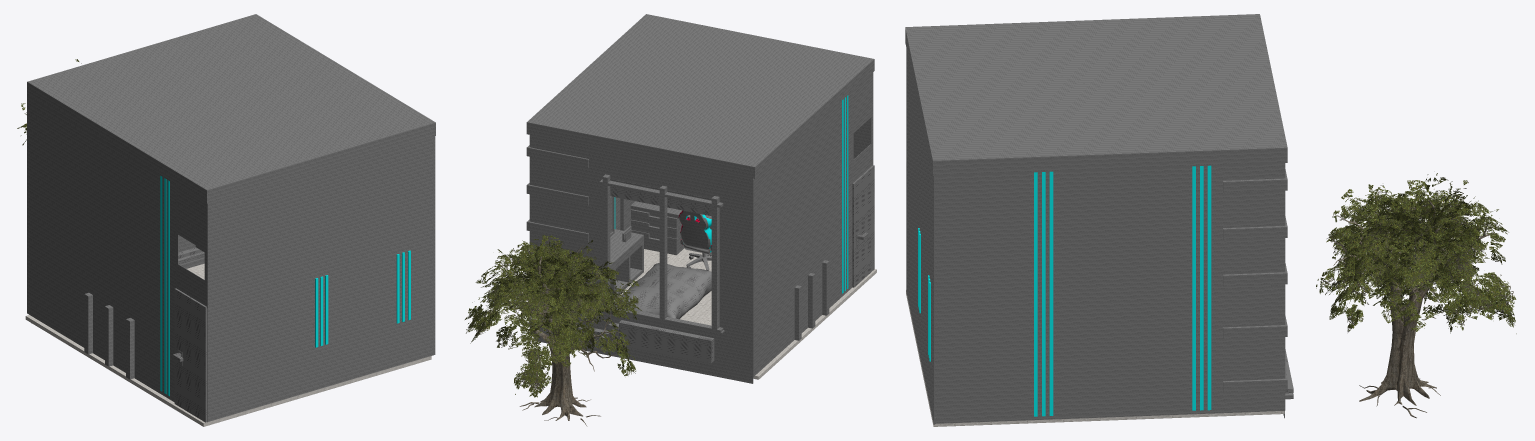
File: Room.obj
3 renders of one model, left to right at view 1: azimuth 30°, elevation 25°; view 2: azimuth 150°, elevation 25°; view 3: azimuth 270°, elevation 25°, orthographic. The views are drawn at different scales.
Parts seen in each view (by area): view 1: Part109, Part4, Part112, Part14, Union1, Part114, Part16, Part18, Part15, Part29, Part30, Part31; view 2: Part4, Union2, Part112, Leafcrown1, Pillow1, Part9, Part14, Part114, Trunk1, Union1, Part22, Part24 (+21 smaller); view 3: Part110, Part4, Leafcrown1, Part109, Part105, Trunk1, Trunk3, Part114, Part21, Part10, Part11, Part12 (+8 smaller).
Part boxes in pixels (bbox=[...]): Part109: bbox=[207, 136, 435, 422]; Part4: bbox=[27, 14, 435, 203]; Part112: bbox=[27, 95, 176, 402]; Part14: bbox=[174, 288, 206, 422]; Union1: bbox=[176, 185, 207, 308]; Part114: bbox=[25, 263, 431, 426]; Part16: bbox=[164, 178, 166, 393]; Part18: bbox=[167, 180, 169, 396]; Part15: bbox=[160, 176, 162, 391]; Part29: bbox=[84, 292, 92, 354]; Part30: bbox=[105, 305, 113, 366]; Part31: bbox=[126, 318, 134, 379]; Part4: bbox=[526, 14, 874, 178]; Union2: bbox=[534, 135, 753, 383]; Part112: bbox=[752, 91, 852, 377]; Leafcrown1: bbox=[465, 235, 641, 397]; Pillow1: bbox=[614, 263, 711, 319]; Part9: bbox=[619, 320, 714, 363]; Part14: bbox=[852, 165, 874, 287]; Part114: bbox=[614, 248, 876, 379]; Trunk1: bbox=[516, 243, 620, 425]; Union1: bbox=[852, 73, 872, 182]; Part22: bbox=[711, 196, 719, 331]; Part24: bbox=[659, 185, 667, 321]; Part110: bbox=[934, 163, 1264, 423]; Part4: bbox=[905, 14, 1287, 175]; Leafcrown1: bbox=[1316, 173, 1516, 333]; Part109: bbox=[906, 50, 934, 424]; Part105: bbox=[1264, 163, 1285, 411]; Trunk1: bbox=[1331, 200, 1494, 417]; Trunk3: bbox=[1331, 201, 1497, 417]; Part114: bbox=[906, 290, 1284, 426]; Part21: bbox=[1207, 165, 1211, 410]; Part10: bbox=[1049, 171, 1053, 415]; Part11: bbox=[1042, 172, 1045, 416]; Part12: bbox=[1034, 172, 1037, 416].
Size of the model in its own units: 77.05 by 72.9 by 135.
66 materials, 62 textured.
